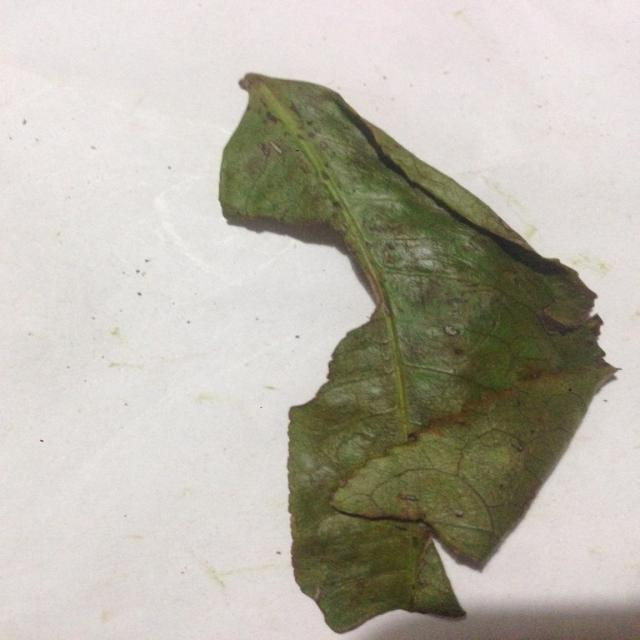Red Leaf Spot: (217, 69, 608, 634)
